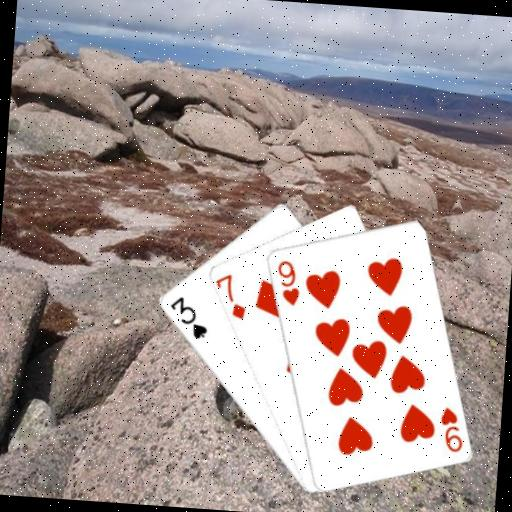3S: (165, 293, 212, 341)
7D: (211, 270, 250, 322)
9H: (271, 256, 303, 308), (435, 403, 467, 455)
